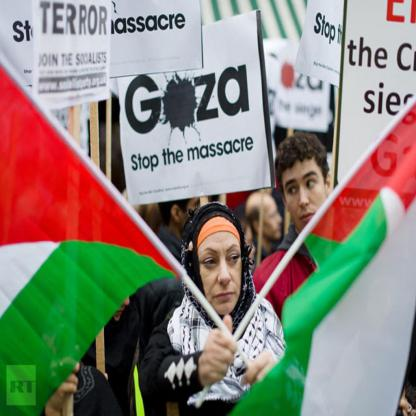face: (198, 231, 242, 314), (285, 160, 327, 234), (262, 195, 285, 241), (180, 191, 203, 236)
